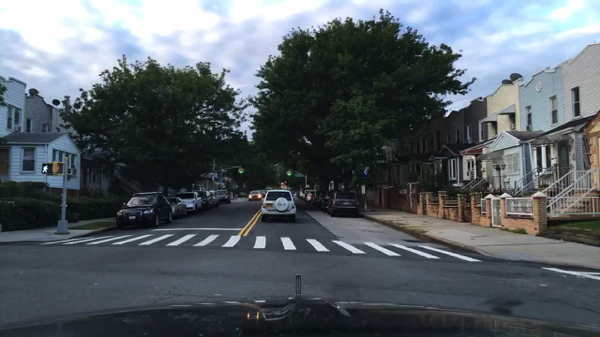car: (116, 191, 174, 231), (260, 189, 297, 223), (326, 192, 359, 218), (174, 191, 204, 215), (165, 197, 188, 220), (194, 190, 215, 211), (320, 190, 339, 213), (316, 191, 332, 210), (215, 190, 231, 204), (309, 190, 322, 207), (208, 191, 220, 207), (247, 190, 263, 202), (299, 188, 312, 200), (305, 191, 315, 204), (302, 191, 311, 202), (302, 190, 310, 200), (259, 190, 266, 198), (243, 191, 250, 198), (290, 191, 296, 198), (296, 191, 301, 198)
traffic light: (41, 162, 58, 175), (55, 162, 65, 176), (240, 169, 243, 174), (288, 171, 291, 176), (286, 171, 289, 176), (238, 169, 240, 174)
traffic sign: (361, 167, 369, 178), (294, 173, 303, 177)
